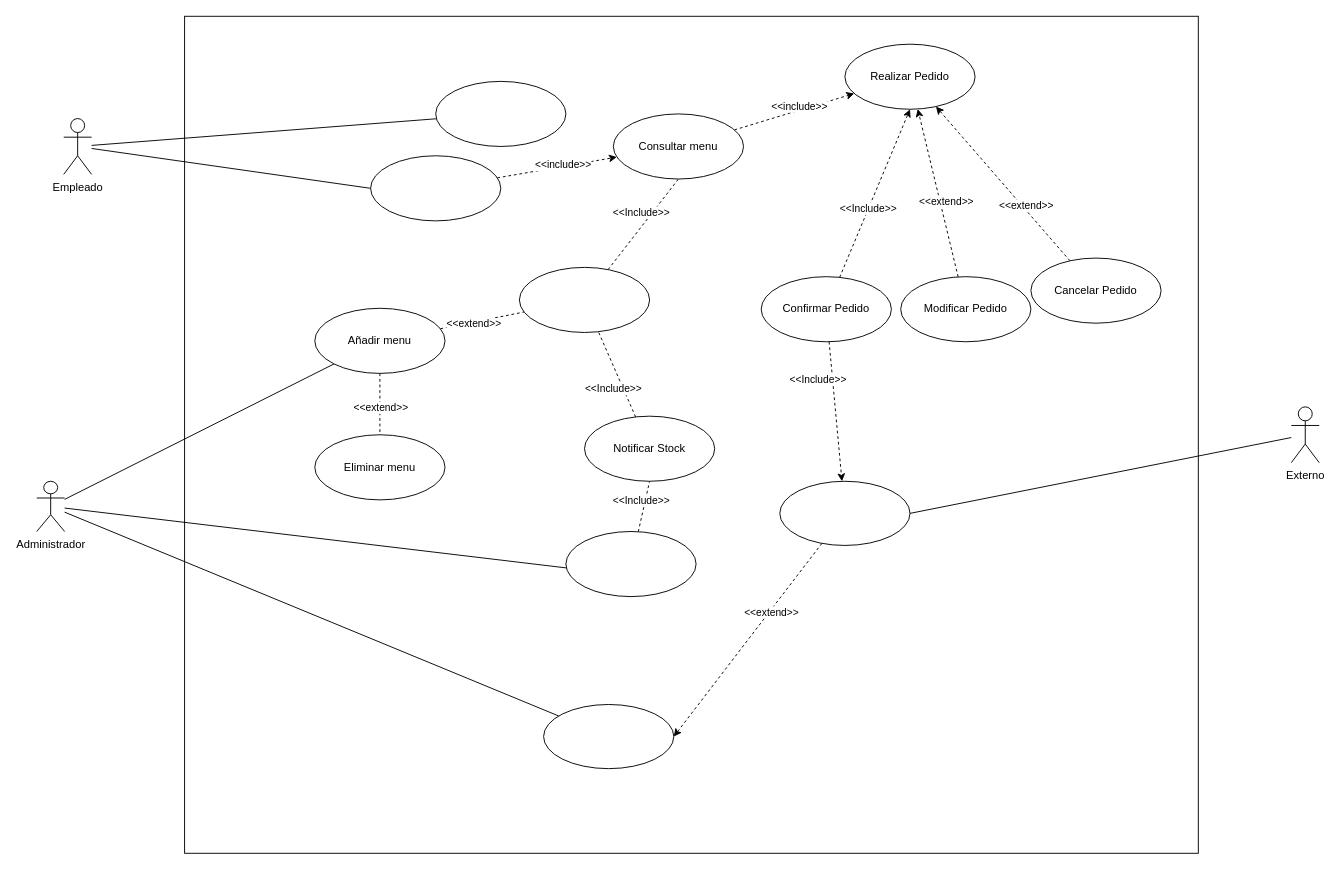
This 1340x870 diagram has some shape labels left out. Each missing label, with the centre of its shape:
Actualizar datos: pixel 500 113
Configurar asistencia: pixel 435 188
Consultar Pedido: pixel 608 736
Modificar Menu: pixel 584 299
Notificar Pedido: pixel 844 512
Verificar Stock: pixel 630 564
